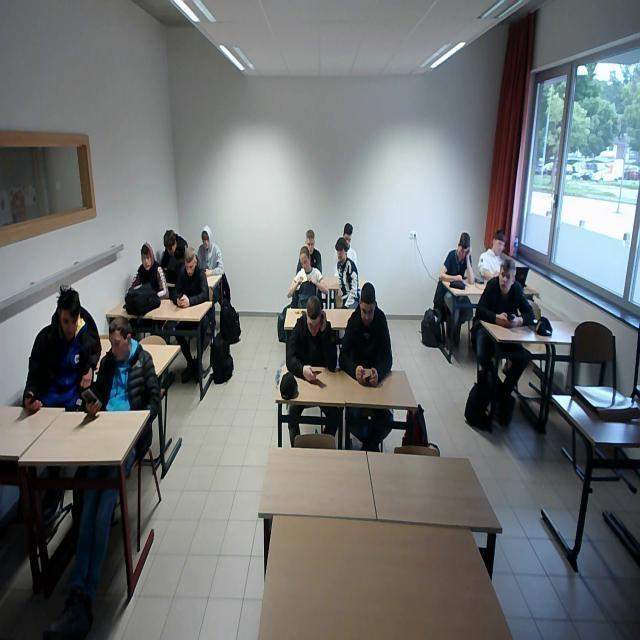phone_use: (22, 287, 99, 409), (84, 316, 159, 422), (339, 281, 390, 384), (285, 295, 335, 380), (475, 257, 532, 325), (173, 247, 207, 305), (438, 231, 473, 282), (159, 228, 186, 282)
